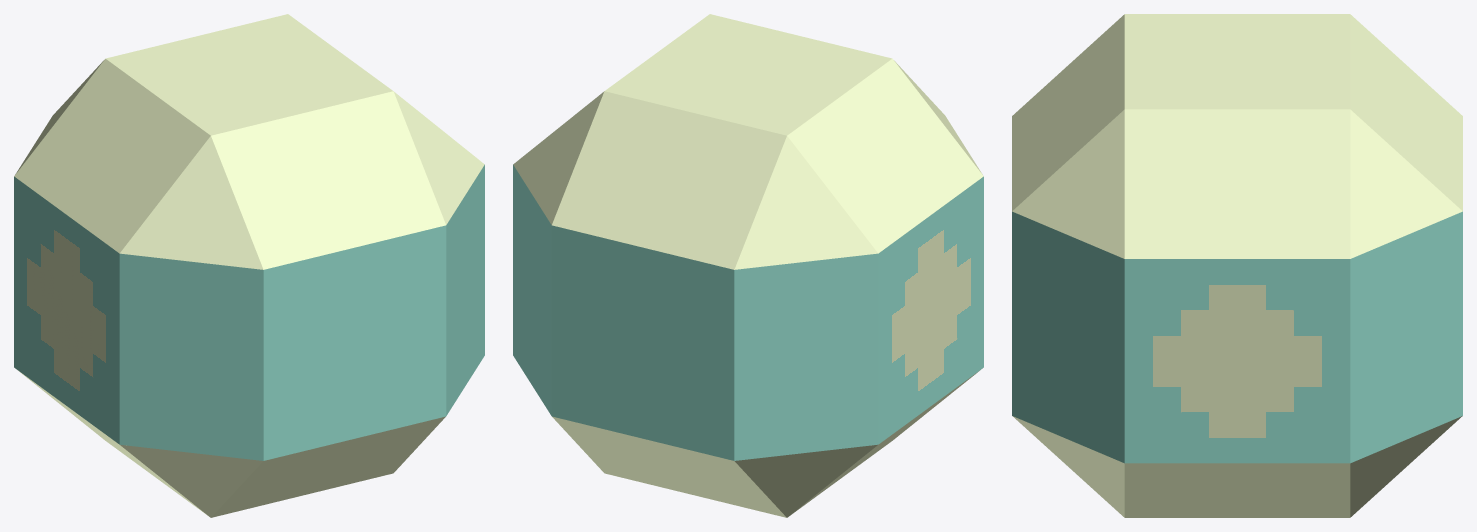
Rendered from ball2.gltf.
3 renders of one model, left to right at view 1: azimuth 30°, elevation 25°; view 2: azimuth 150°, elevation 25°; view 3: azimuth 270°, elevation 25°, orthographic. The views are drawn at different scales.
Visible parts, largest first — view 1: beveled_cuboid; view 2: beveled_cuboid; view 3: beveled_cuboid.
Boxes of the visible parts, x1,y1,x2,y2 form: beveled_cuboid: (14,14,484,517); beveled_cuboid: (513,14,983,517); beveled_cuboid: (1012,14,1462,517).
Size of the model in its own units: 0.125 by 0.125 by 0.125.
1 material, 1 textured.
